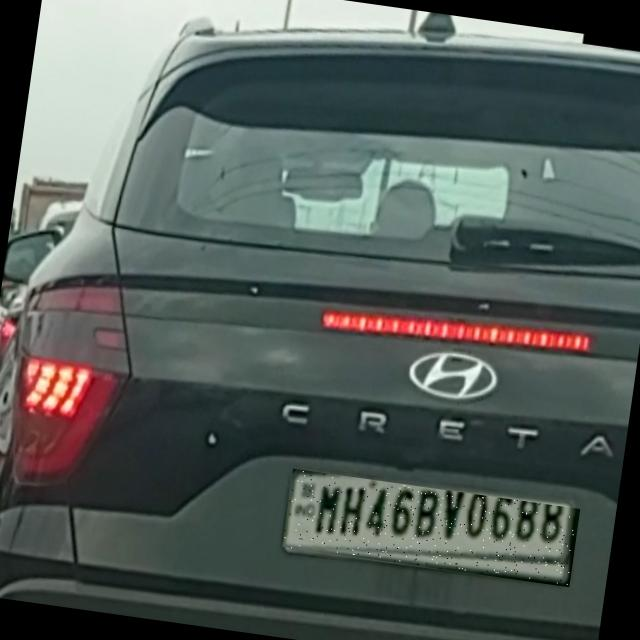Plate: (283, 470, 581, 589)
